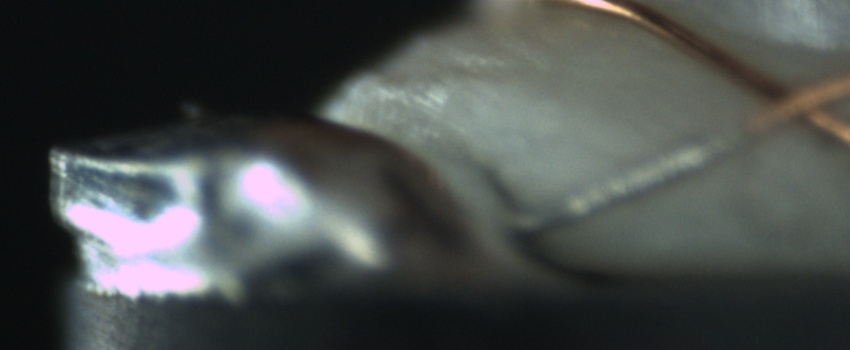CL: (750, 64, 841, 140)
TS: (511, 121, 747, 237)
